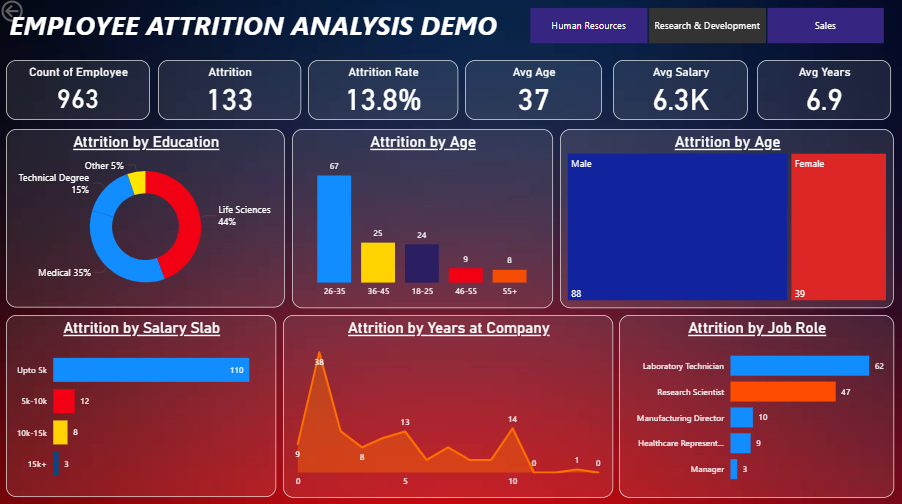

The dashboard page shown, as its layout file describes it:
{"tool":"powerbi","page":{"name":"Page 1","canvas":[1280,720],"ordinal":0},"visuals":[{"type":"card","title":"Count of Employee","fields":{"Values":["Sum(HR_Analytics.EmployeeCount)"]},"box":[10.6,89.3,209,90.9],"z":0},{"type":"card","title":"Attrition","fields":{"Values":["Sum(HR_Analytics.AttritionCount)"]},"box":[227.1,89.3,204.4,90.9],"z":1000},{"type":"card","title":"Attrition Rate","fields":{"Values":["HR_Analytics.AttritionRate"]},"box":[439.1,89.3,216.5,90.9],"z":2000},{"type":"card","title":"Avg Age","fields":{"Values":["Avg(HR_Analytics.Age)"]},"box":[661.7,89.3,202.9,90.9],"z":3000},{"type":"card","title":"Avg Years","fields":{"Values":["Avg(HR_Analytics.YearsAtCompany)"]},"box":[1075.7,89.3,193,91],"z":4000},{"type":"card","title":"Avg Salary","fields":{"Values":["Avg(HR_Analytics.MonthlyIncome)"]},"box":[872.2,89.3,193.8,90.9],"z":5000},{"type":"donutChart","title":" Attrition by Education","fields":{"Category":["HR_Analytics.EducationField"],"Y":["Sum(HR_Analytics.AttritionCount)"]},"box":[11.3,187.1,397,256],"z":6000},{"type":"columnChart","title":" Attrition by Age","fields":{"Category":["HR_Analytics.AgeGroup"],"Y":["Sum(HR_Analytics.AttritionCount)"]},"box":[416.4,187.8,373,255.9],"z":7000},{"type":"actionButton","box":[0,0,100,40],"z":8000},{"type":"clusteredBarChart","title":" Attrition by Salary Slab","fields":{"Category":["HR_Analytics.SalarySlab"],"Y":["Sum(HR_Analytics.AttritionCount)"]},"box":[11.3,450.7,386,258],"z":9000},{"type":"clusteredBarChart","title":" Attrition by Job Role","fields":{"Y":["Sum(HR_Analytics.AttritionCount)"],"Category":["HR_Analytics.JobRole"]},"box":[880.2,450.7,389.8,259.4],"z":10000},{"type":"areaChart","title":" Attrition by Years at Company","fields":{"Category":["HR_Analytics.YearsAtCompany"],"Y":["Sum(HR_Analytics.AttritionCount)"]},"box":[403.9,450.7,468,259.4],"z":11000},{"type":"lineChart","title":" Attrition by Age","fields":{"Category":["HR_Analytics.Age"],"Y":["CountNonNull(HR_Analytics.AttritionCount)"],"Series":["HR_Analytics.Gender"]},"box":[796.5,187.8,473.9,255.9],"z":12000},{"type":"slicer","title":"Filter by Departments","fields":{"Values":["HR_Analytics.Department"]},"box":[576.9,9.1,704,76],"z":13000},{"type":"textbox","box":[10.6,9.1,590.5,63.6],"z":14000}]}

Visuals, with their boxes in screenshot pixels (x1, y1, x2, y2), scaled from the page's 1280x720 canvas onto the 902x504 screenshot:
"Count of Employee" card: (x1=7, y1=63, x2=155, y2=126)
"Attrition" card: (x1=160, y1=63, x2=304, y2=126)
"Attrition Rate" card: (x1=309, y1=63, x2=462, y2=126)
"Avg Age" card: (x1=466, y1=63, x2=609, y2=126)
"Avg Years" card: (x1=758, y1=63, x2=894, y2=126)
"Avg Salary" card: (x1=615, y1=63, x2=751, y2=126)
" Attrition by Education" donutChart: (x1=8, y1=131, x2=288, y2=310)
" Attrition by Age" columnChart: (x1=293, y1=131, x2=556, y2=311)
actionButton: (x1=0, y1=0, x2=70, y2=28)
" Attrition by Salary Slab" clusteredBarChart: (x1=8, y1=315, x2=280, y2=496)
" Attrition by Job Role" clusteredBarChart: (x1=620, y1=315, x2=895, y2=497)
" Attrition by Years at Company" areaChart: (x1=285, y1=315, x2=614, y2=497)
" Attrition by Age" lineChart: (x1=561, y1=131, x2=895, y2=311)
"Filter by Departments" slicer: (x1=407, y1=6, x2=901, y2=60)
textbox: (x1=7, y1=6, x2=424, y2=51)
